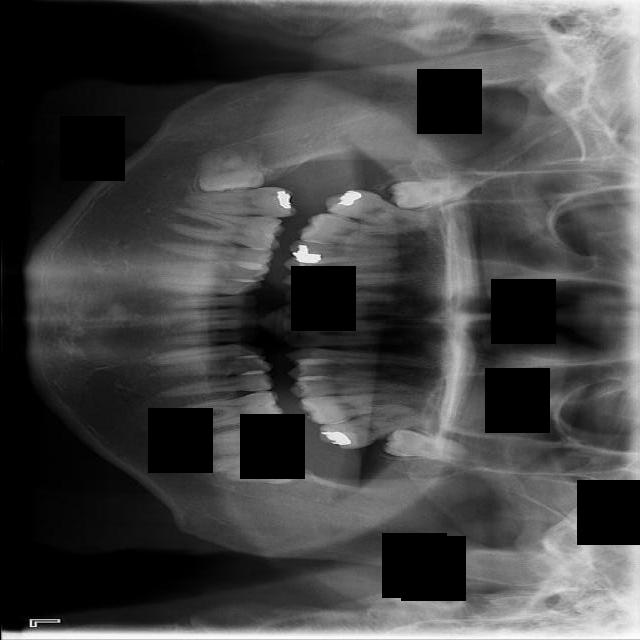3M ESPE Implant: (387, 172, 487, 212)
52: (315, 415, 375, 454), (324, 187, 385, 221), (257, 419, 301, 458), (250, 187, 296, 218), (289, 239, 341, 265)
BioHorizons Implant: (315, 400, 433, 457)
BioLife Implant: (381, 427, 466, 462)
Caries: (322, 182, 437, 239)
Implant: (195, 420, 302, 459), (183, 186, 296, 218)
Keystone Dental Implant: (192, 139, 265, 200), (206, 450, 301, 486)
